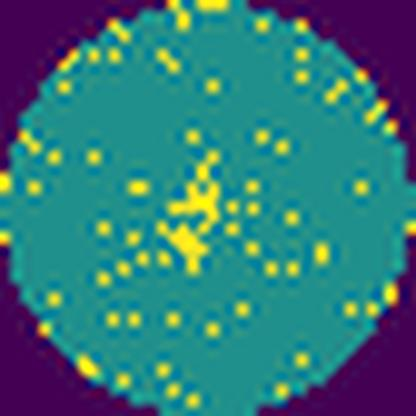Center: (152, 147, 226, 278)
